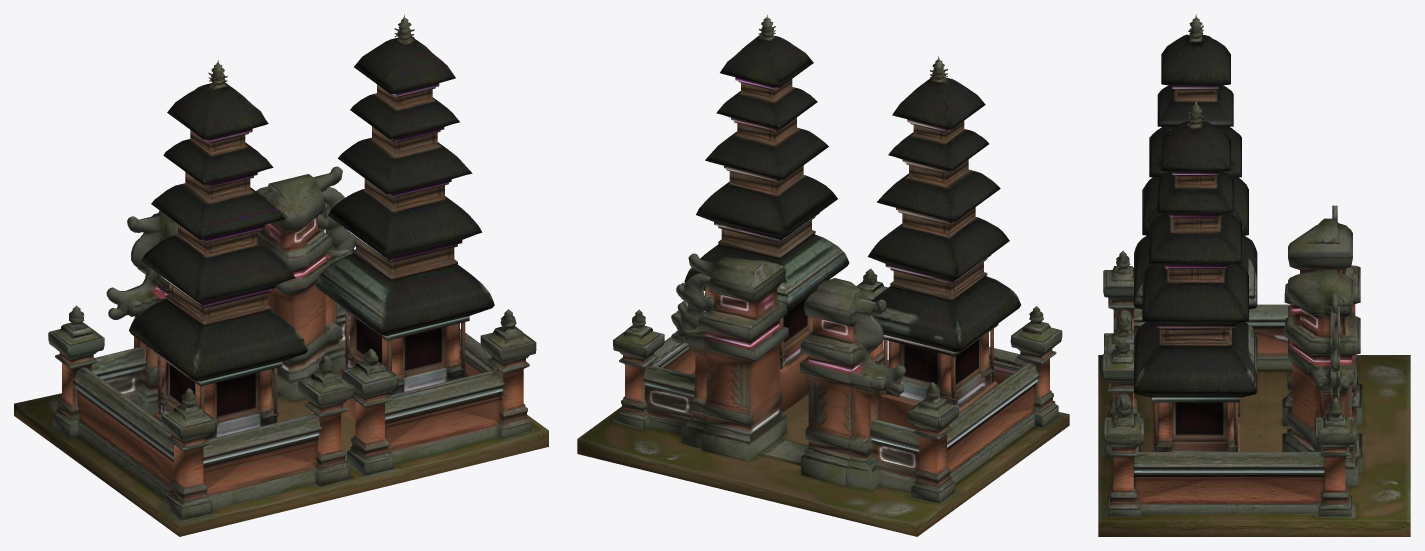
The model's file is lm_bali_gate.glb.
3 renders of one model, left to right at view 1: azimuth 30°, elevation 25°; view 2: azimuth 150°, elevation 25°; view 3: azimuth 270°, elevation 25°, orthographic. The views are drawn at different scales.
Parts seen in each view (by area): view 1: Body; view 2: Body; view 3: Body.
Part boxes in pixels (left/top/right/bottom): Body: left=14, top=14, right=548, bottom=536; Body: left=577, top=14, right=1069, bottom=536; Body: left=1098, top=14, right=1410, bottom=536.
Bounding box in the file's own units: 18.51 × 20 × 14.36.
Materials: 1 (1 with a texture image).
